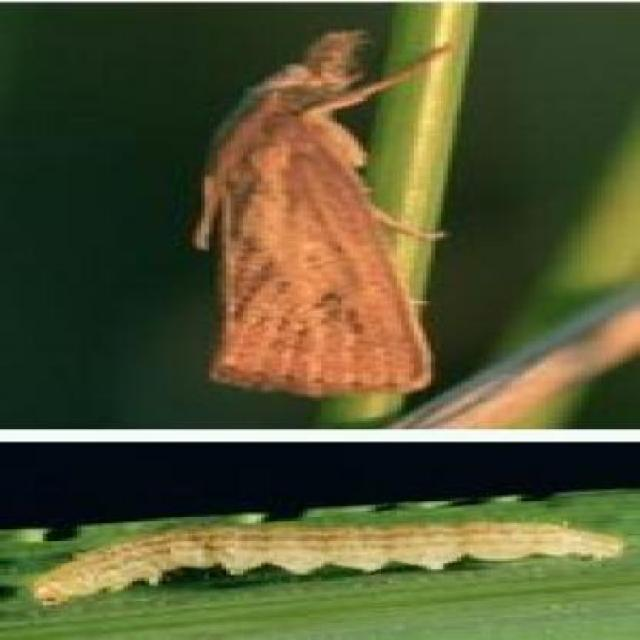stem-borer: (189, 28, 449, 397)
